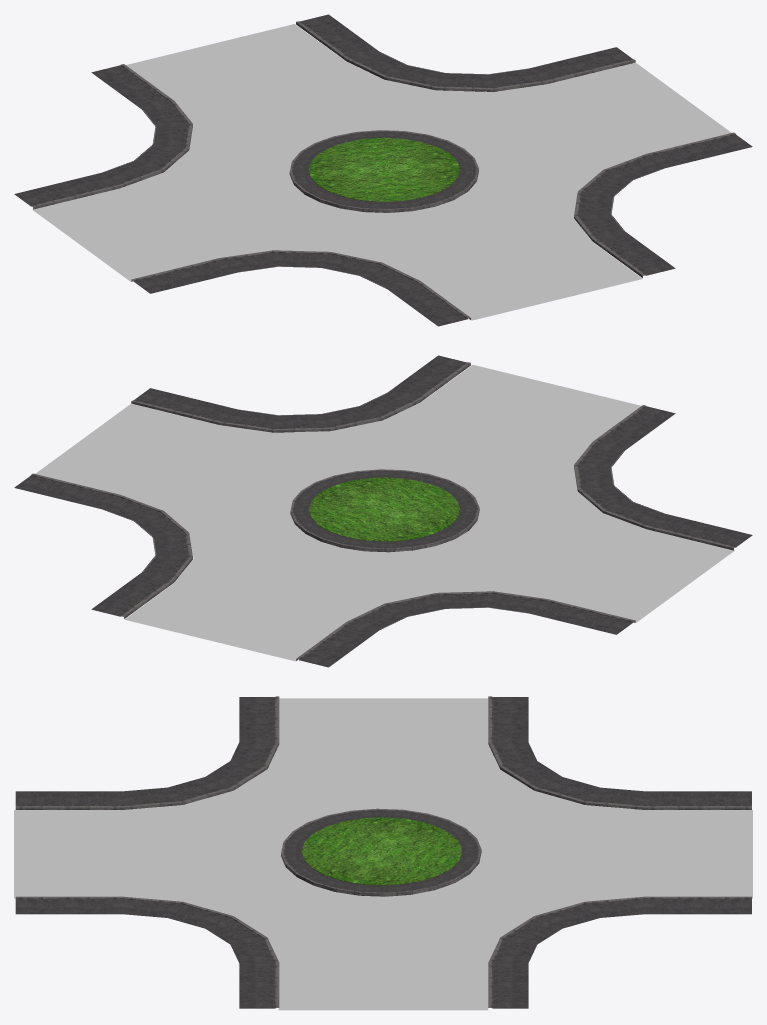
Rendered from round about 4 lines_mobile.FBX.
3 renders of one model, top to bottom at view 1: azimuth 30°, elevation 25°; view 2: azimuth 150°, elevation 25°; view 3: azimuth 270°, elevation 25°, orthographic. The views are drawn at different scales.
Parts seen in each view (by area): view 1: Object002; view 2: Object002; view 3: Object002.
Part boxes in pixels (box(x1,y1,x2,y2)): Object002: box(14, 14, 752, 326); Object002: box(14, 355, 752, 667); Object002: box(14, 696, 752, 1010).
Bounding box in the file's own units: 82.66 × 0.6741 × 82.65.
